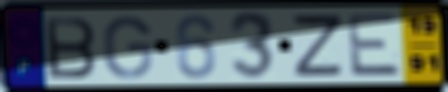3: (229, 9, 276, 83)
6: (173, 13, 217, 81)
B: (42, 15, 99, 81)
E: (345, 11, 405, 78)
G: (101, 14, 155, 81)
Z: (290, 12, 345, 79)
